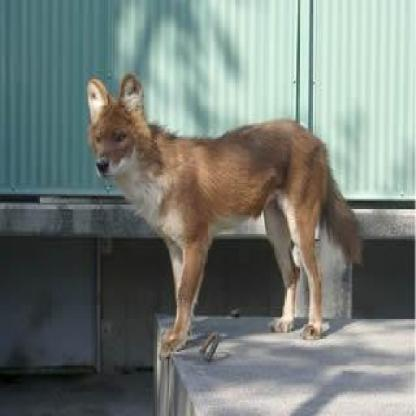dhole: (84, 71, 359, 354)
